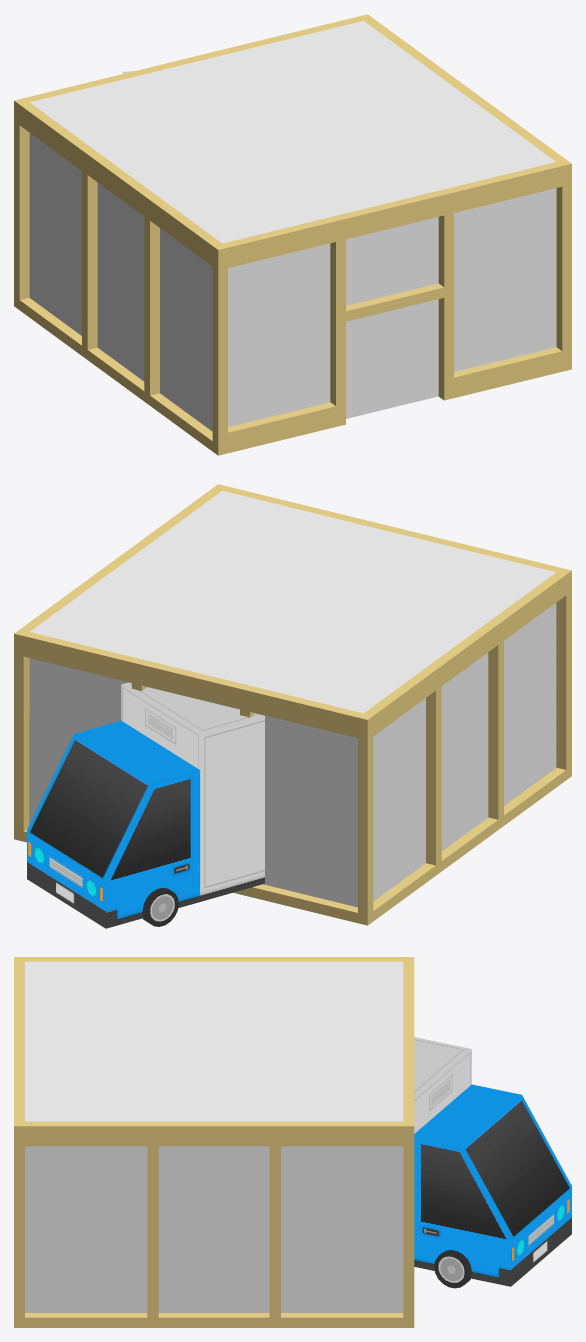
The model's file is building_bottom.glb.
The picture shows the model from 3 angles, top to bottom: view 1: azimuth 30°, elevation 25°; view 2: azimuth 150°, elevation 25°; view 3: azimuth 270°, elevation 25°; orthographic projection. The views are drawn at different scales.
Parts seen in each view (by area): view 1: building; view 2: building, Car_09; view 3: building, Car_09.
Boxes of the visible parts, x1,y1,x2,y2 form: building: (14,14,571,455); building: (14,484,571,925); Car_09: (27,682,264,928); building: (14,957,414,1327); Car_09: (414,1037,571,1288).
Bounding box in the file's own units: 3.6 × 2 × 5.02.
3 materials, 2 textured.
